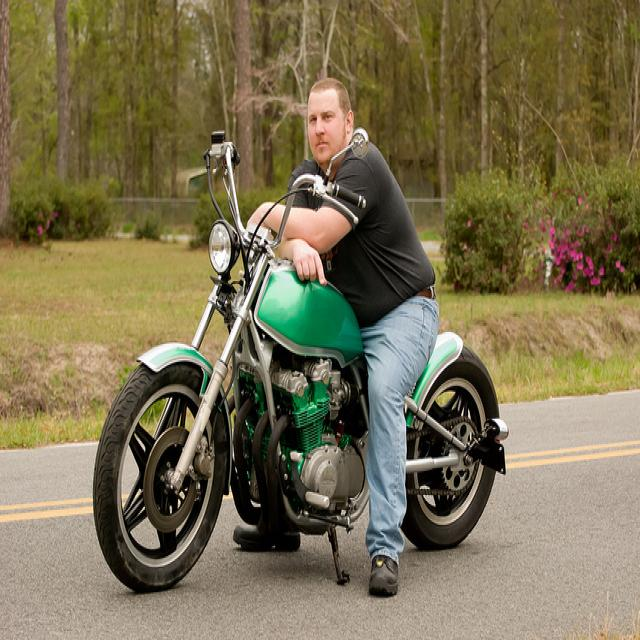motor: (90, 128, 510, 597)
